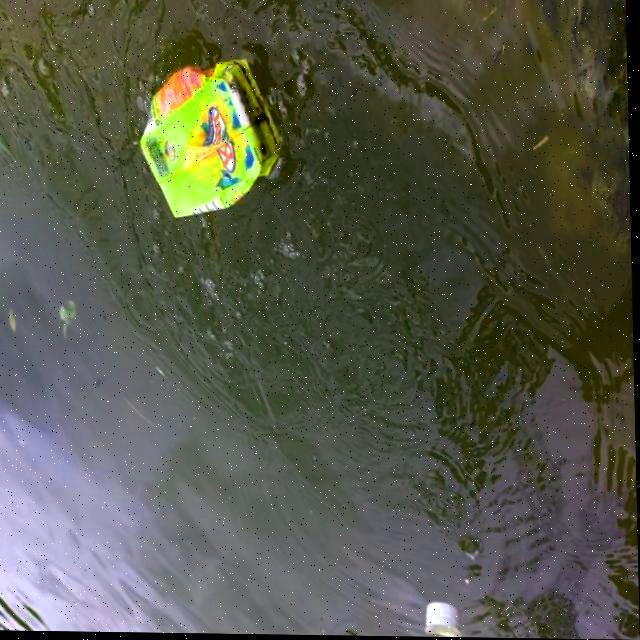Plastic: (137, 53, 287, 218), (417, 595, 470, 640)
